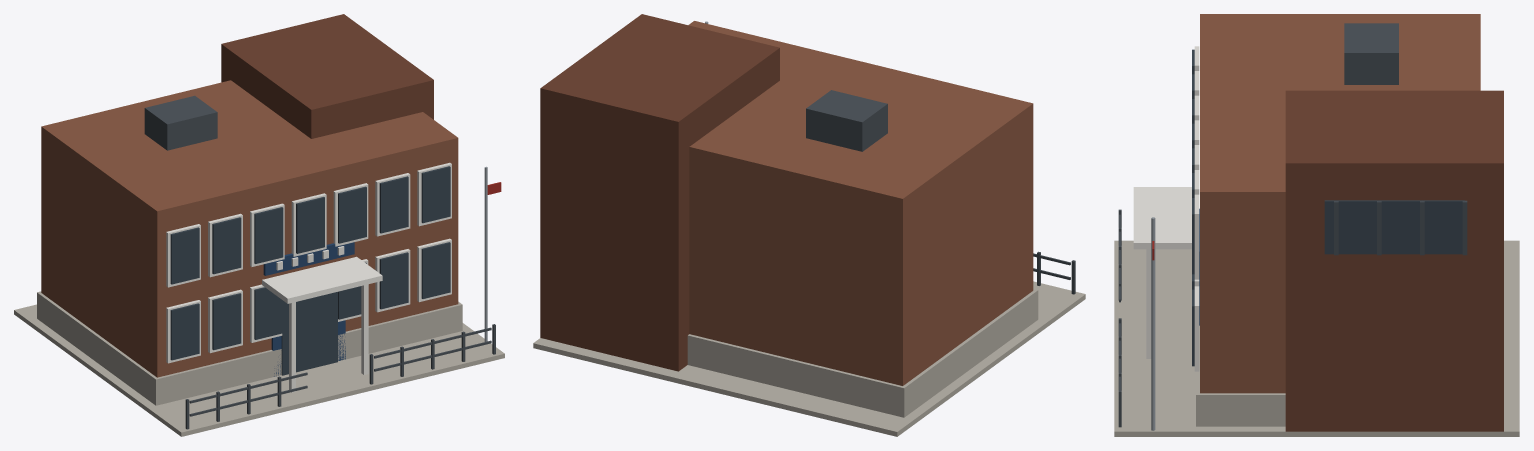
Rendered from service_school.glb.
3 renders of one model, left to right at view 1: azimuth 30°, elevation 25°; view 2: azimuth 150°, elevation 25°; view 3: azimuth 270°, elevation 25°, orthographic. The views are drawn at different scales.
Parts seen in each view (by area): view 1: service_school; view 2: service_school; view 3: service_school.
Boxes of the visible parts, left/top/right/bottom form: service_school: left=14, top=14, right=504, bottom=436; service_school: left=533, top=14, right=1085, bottom=436; service_school: left=1114, top=14, right=1519, bottom=436.
Bounding box in the file's own units: 12.03 × 7.75 × 10.4.
2 materials, 1 textured.
